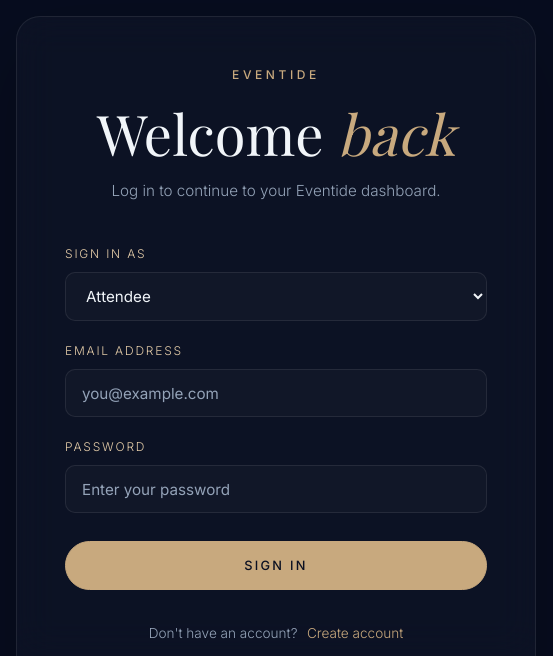
Test: EMS-FR-03 Login failures › a role mismatch shows the server message
Select "Host" in the dropdown labelled "Sign in as" at (276, 296), box [65,272,487,321]
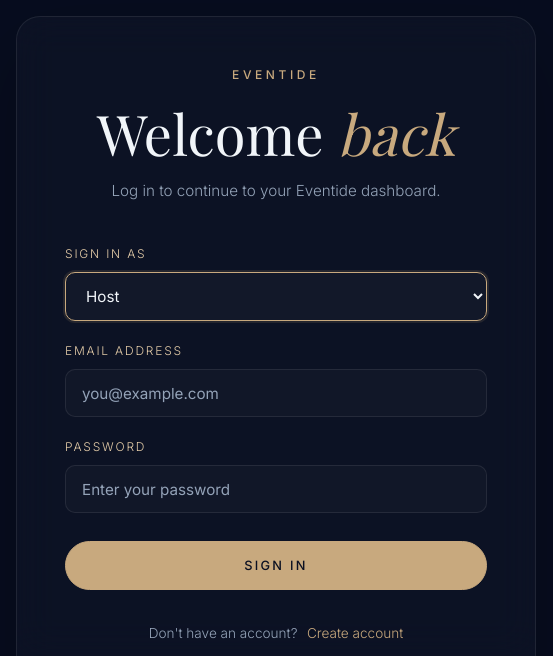
Type "user@test.com" into the field labelled "Email address" at (276, 393), box [65,369,487,417]
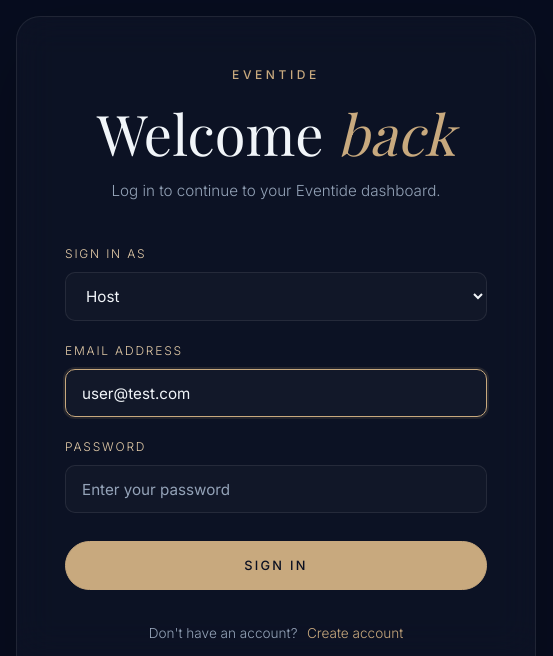
Type "Password123" into the password field labelled "Password" at (276, 489), box [65,465,487,513]
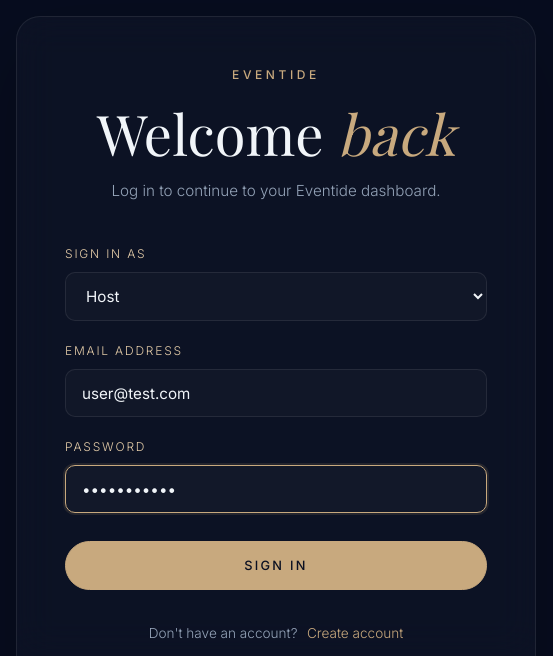
Click the button "Sign in" at (276, 566), box [65,541,487,590]
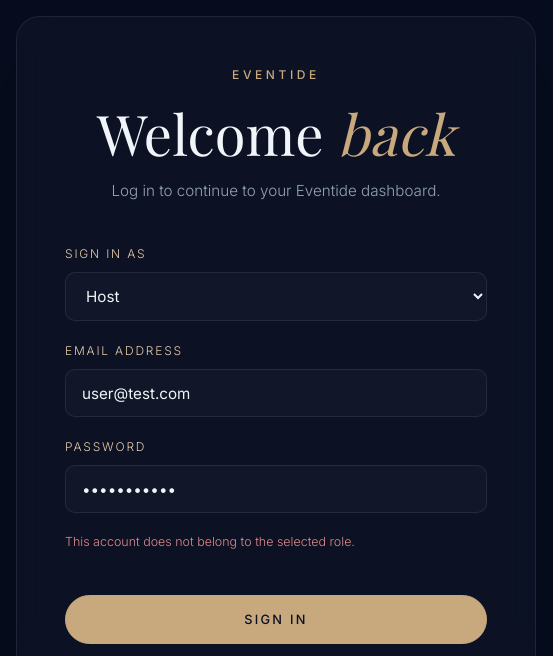
Expected: the text "This account does not belong to the selected role." is shown, [65,534,355,549]
